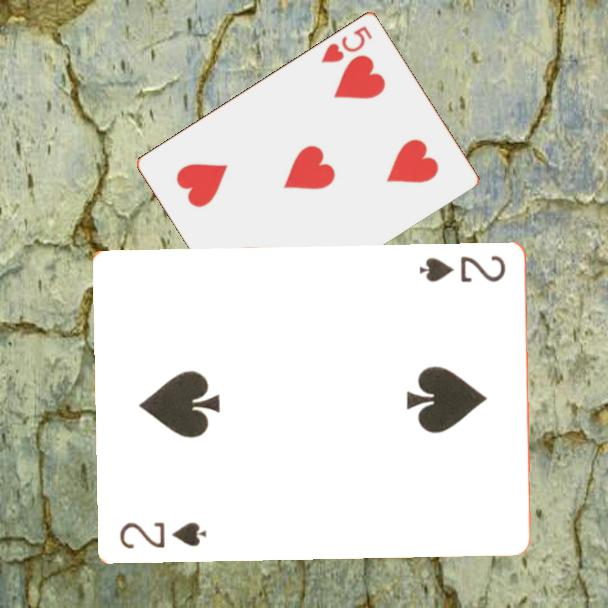h05: (318, 22, 375, 65)
s02: (416, 251, 509, 285), (117, 518, 210, 552)
